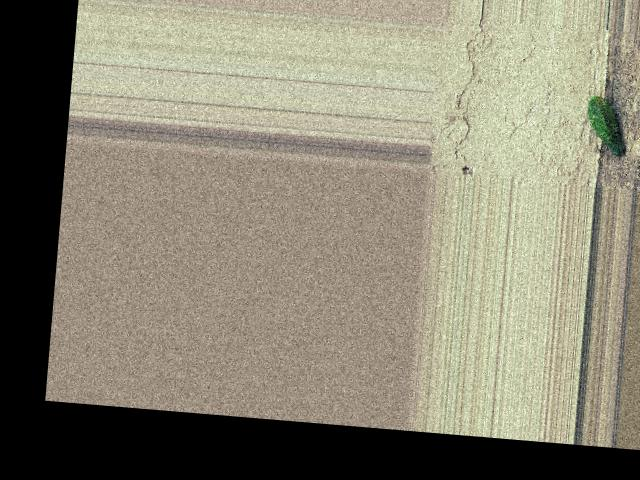cucumber: (583, 95, 628, 155)
